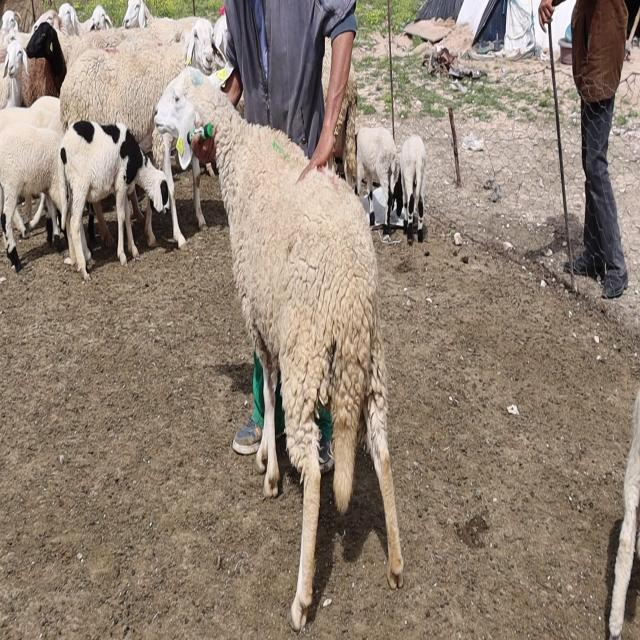Score_2: (154, 66, 403, 629)
